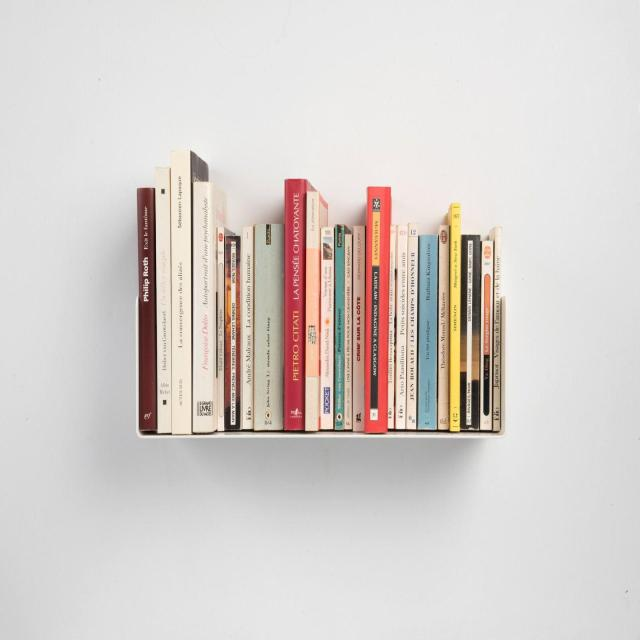book: (256, 229, 283, 431), (172, 152, 188, 432), (368, 191, 386, 423), (193, 188, 210, 428), (138, 191, 154, 427), (287, 184, 302, 430), (226, 239, 242, 430), (159, 174, 169, 428), (420, 238, 432, 432), (464, 240, 476, 428), (307, 195, 315, 432), (452, 210, 459, 433), (482, 247, 490, 430), (244, 231, 251, 428), (324, 232, 331, 429), (493, 230, 499, 430), (409, 226, 414, 430), (337, 232, 342, 432), (440, 231, 445, 430), (399, 226, 402, 431)
